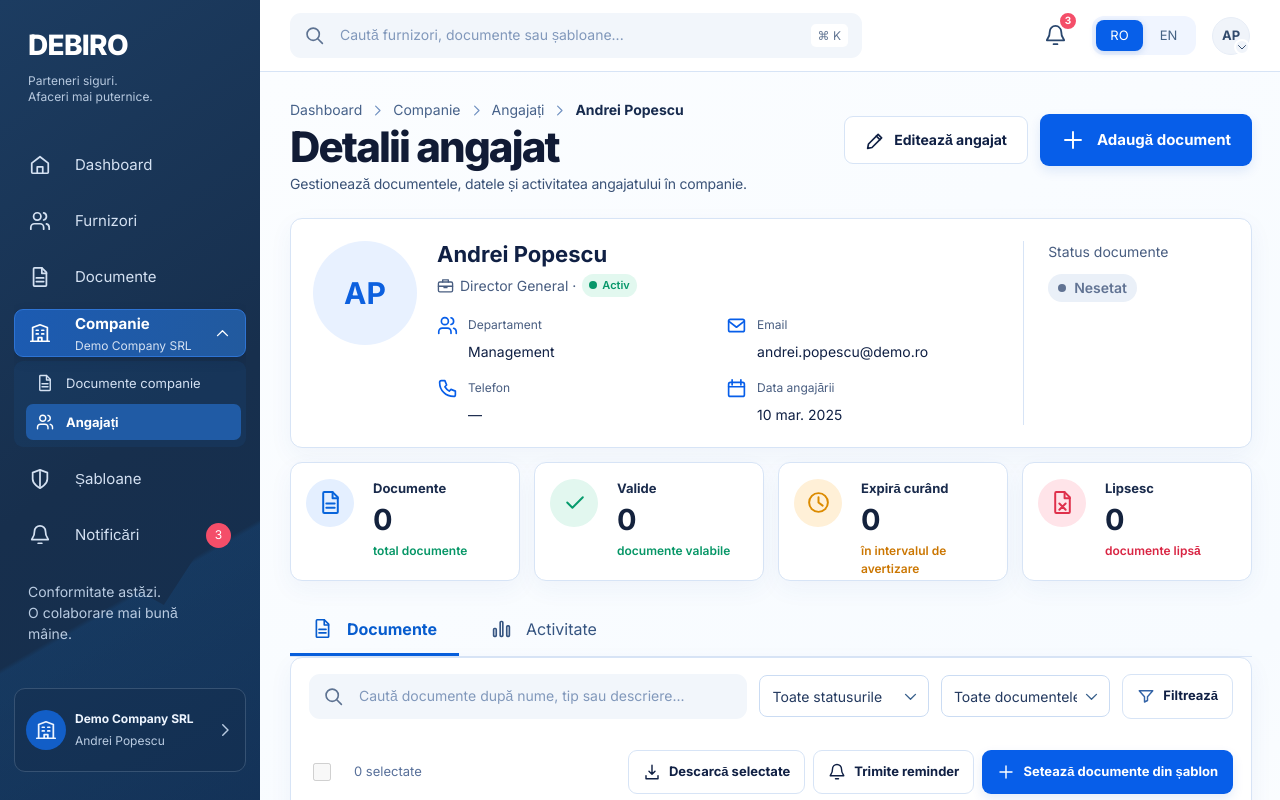
Scenario: Employee Details shared document UI › has truthful empty status, no fixture activity, accessible tabs and no obsolete drawer notice in ro
Expected: the heading "Detalii angajat" is shown, [290,121,559,172]
Expected: the heading "Andrei Popescu" is shown, [437,241,607,267]
Press ArrowRight in the tab "Documente", box [290,605,459,656]
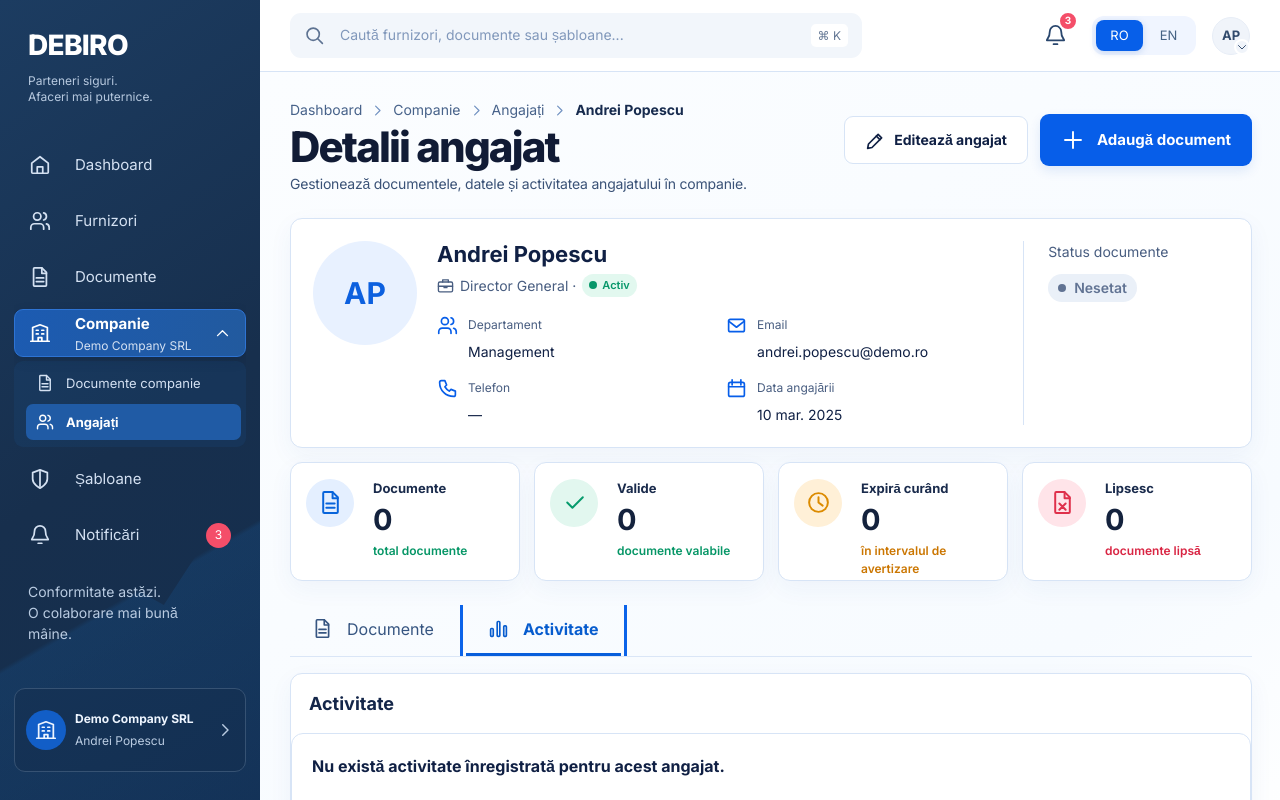
Result: the text "Nu există activitate înregistrată pentru acest angajat." is shown at [312,756,725,776]
Click the tab "Documente" at (373, 630), box [290,605,456,656]
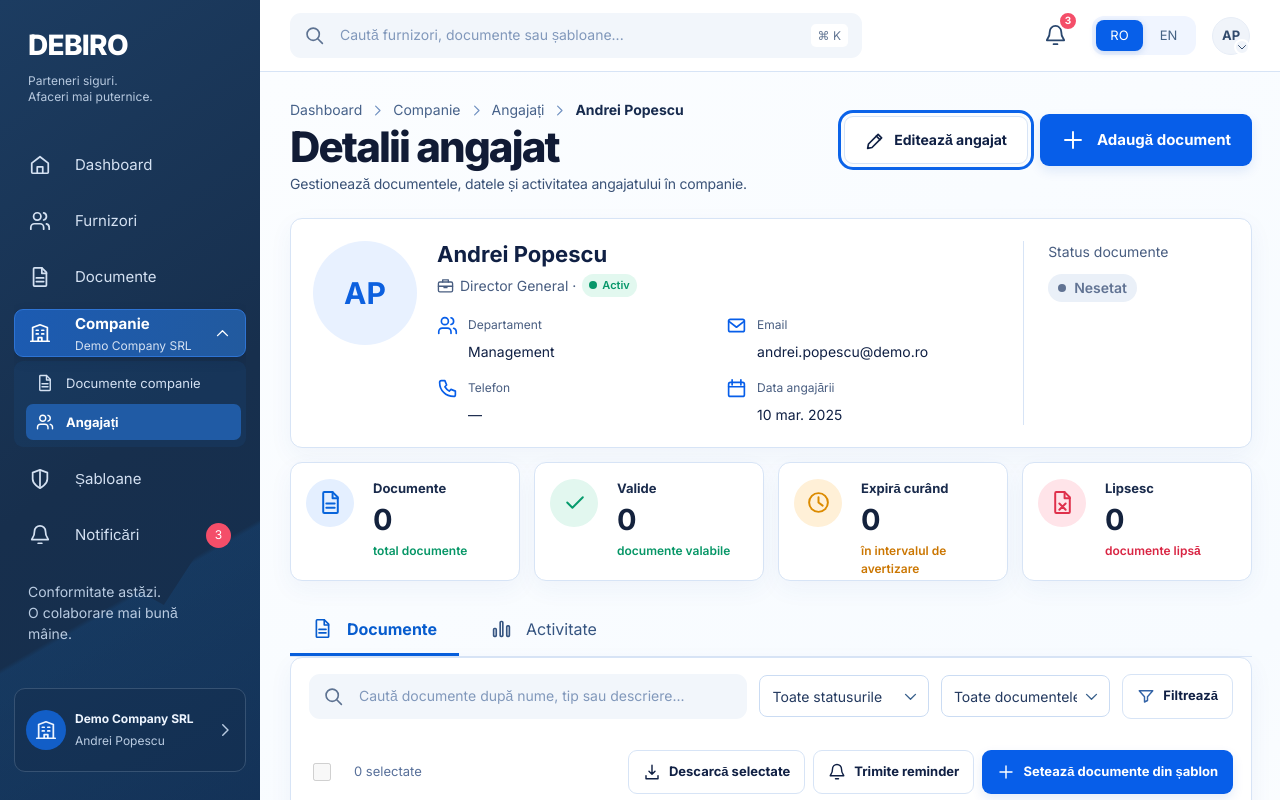
Click the button "Editează angajat" at (936, 140), box [844,116,1028,164]
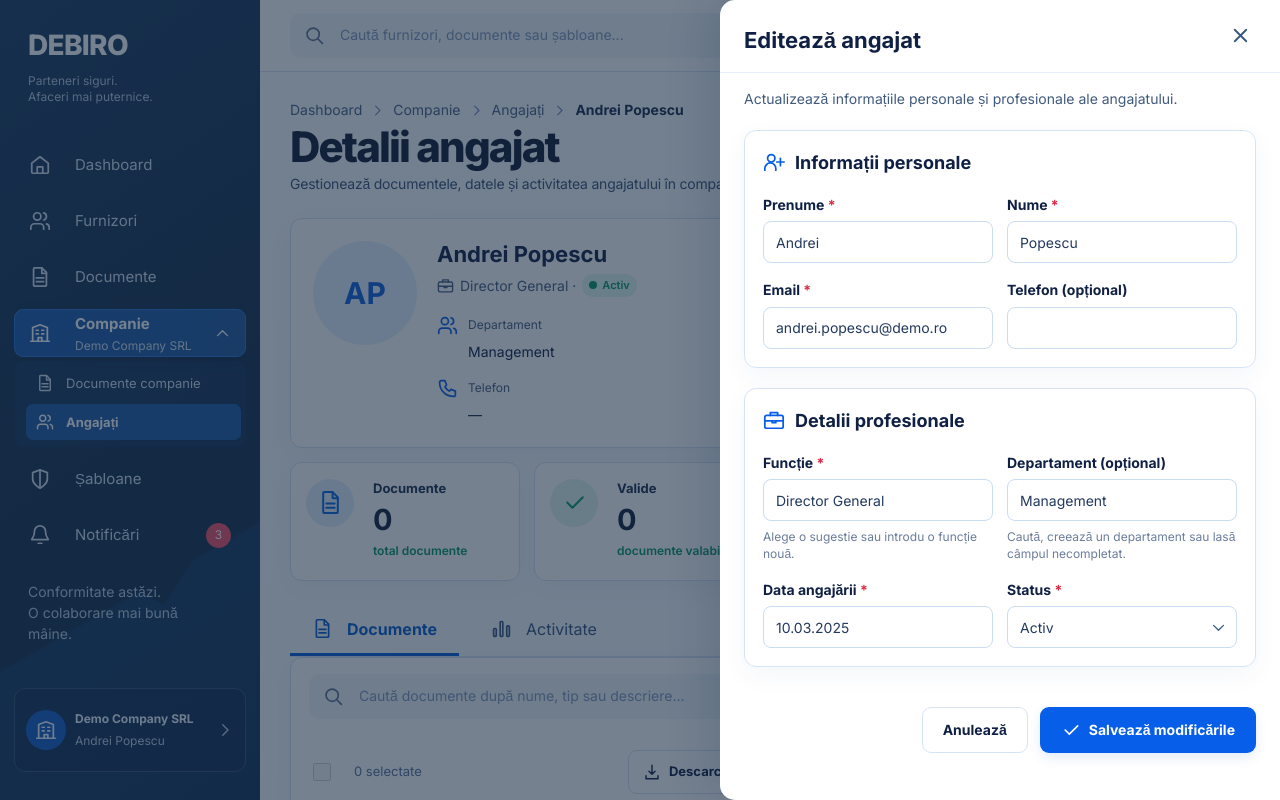
Press Escape
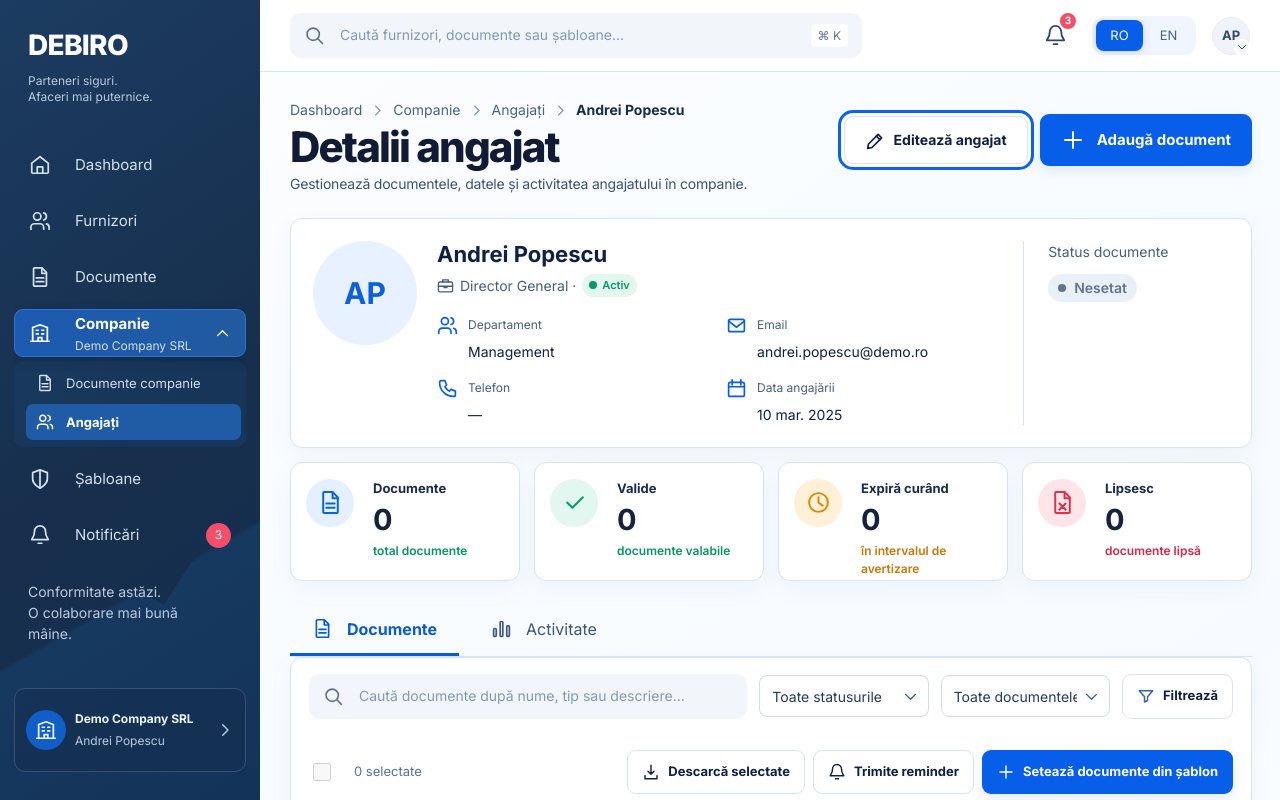
Result: the dialog is gone
